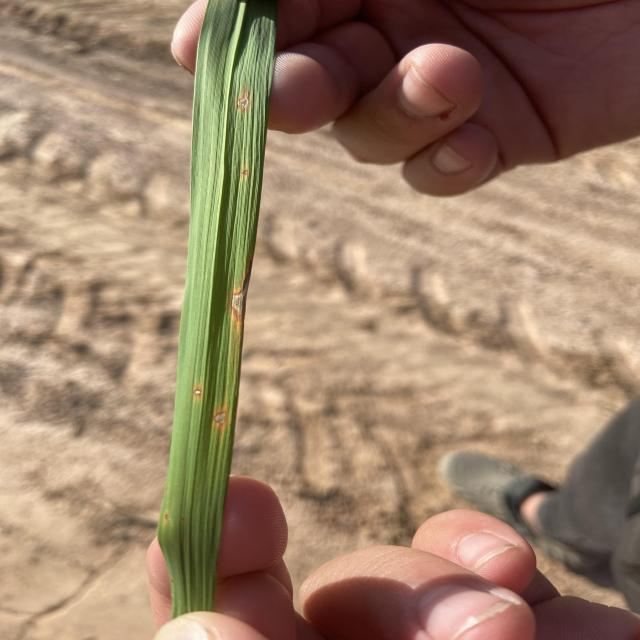Dao on: (230, 255, 253, 325), (215, 406, 227, 430), (237, 89, 250, 111), (194, 385, 203, 398), (241, 169, 249, 176), (164, 511, 169, 522)
